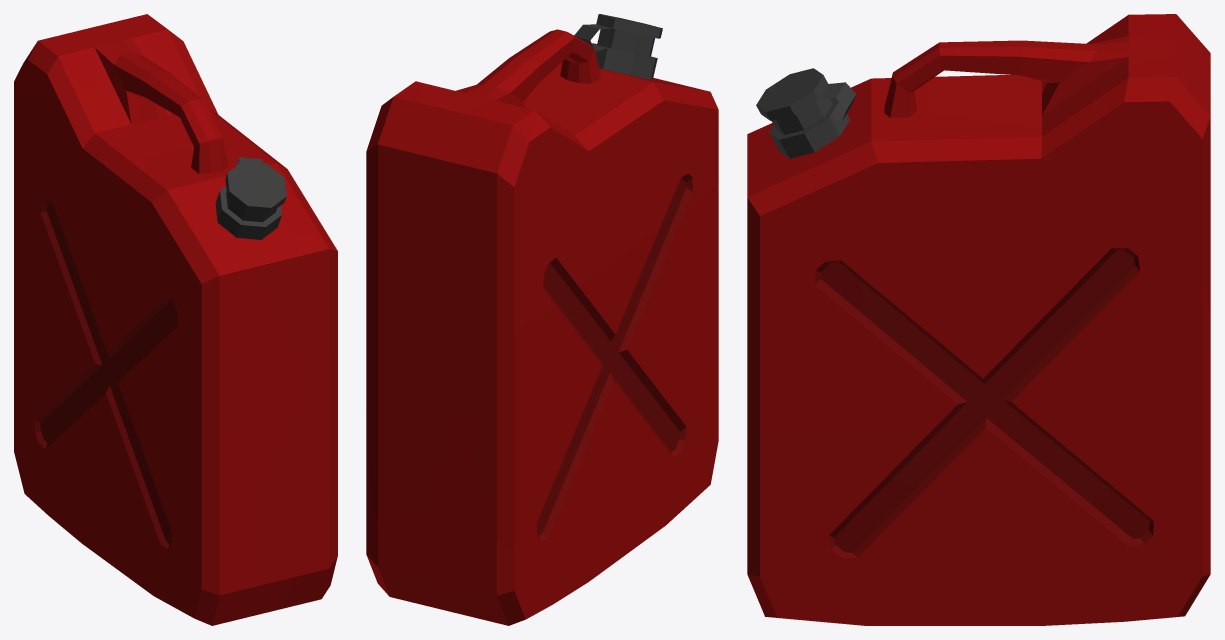
The model's file is Jerrycan.fbx.
3 renders of one model, left to right at view 1: azimuth 30°, elevation 25°; view 2: azimuth 150°, elevation 25°; view 3: azimuth 270°, elevation 25°, orthographic. The views are drawn at different scales.
Parts seen in each view (by area): view 1: Jerrycan; view 2: Jerrycan; view 3: Jerrycan.
Boxes of the visible parts, x1,y1,x2,y2 form: Jerrycan: (14,14,337,625); Jerrycan: (366,14,718,625); Jerrycan: (747,14,1210,625).
Size of the model in its own units: 10.06 by 32.99 by 25.16.
Materials: 1 (1 with a texture image).
